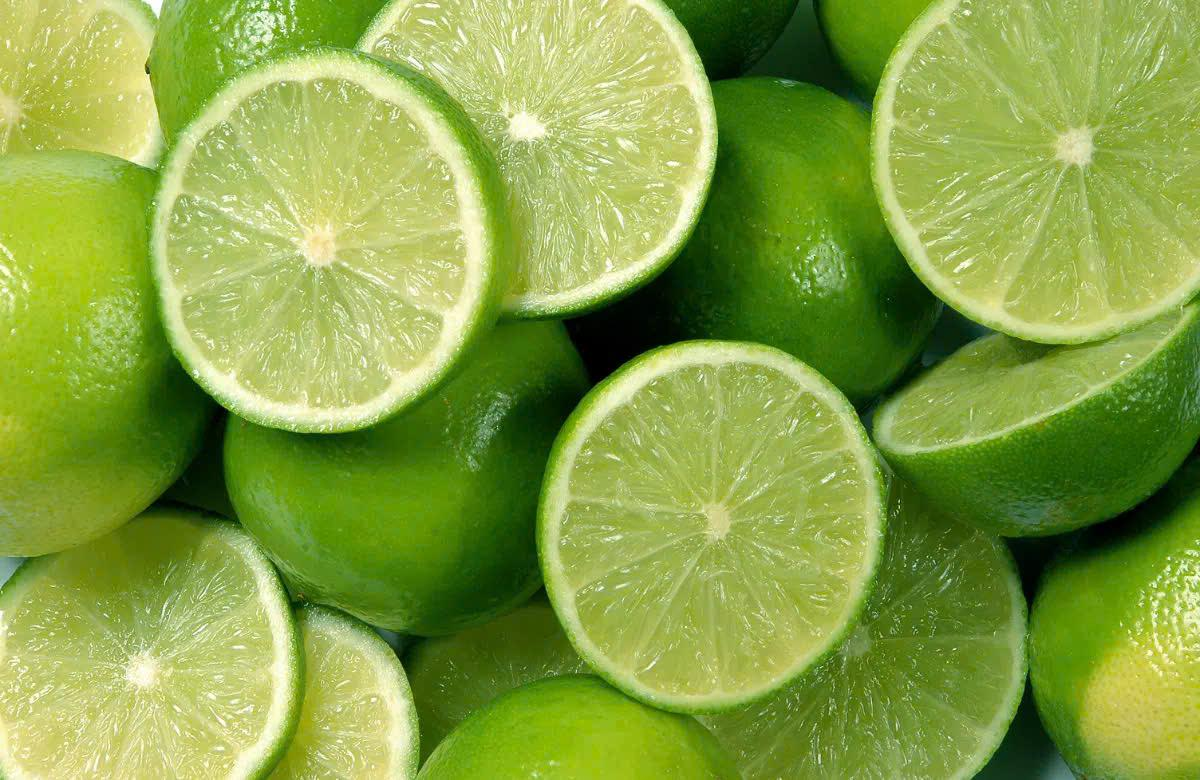lime: (163, 46, 502, 438), (353, 0, 748, 323), (528, 332, 876, 690), (885, 3, 1200, 333), (860, 485, 1200, 780), (0, 117, 216, 564), (205, 375, 558, 636), (695, 65, 935, 378), (0, 523, 290, 780), (870, 315, 1200, 522)
